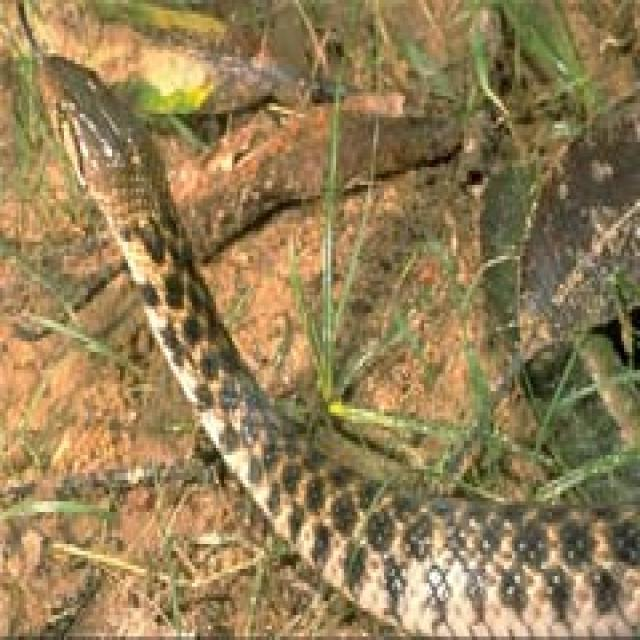Snake: (13, 0, 637, 636)
